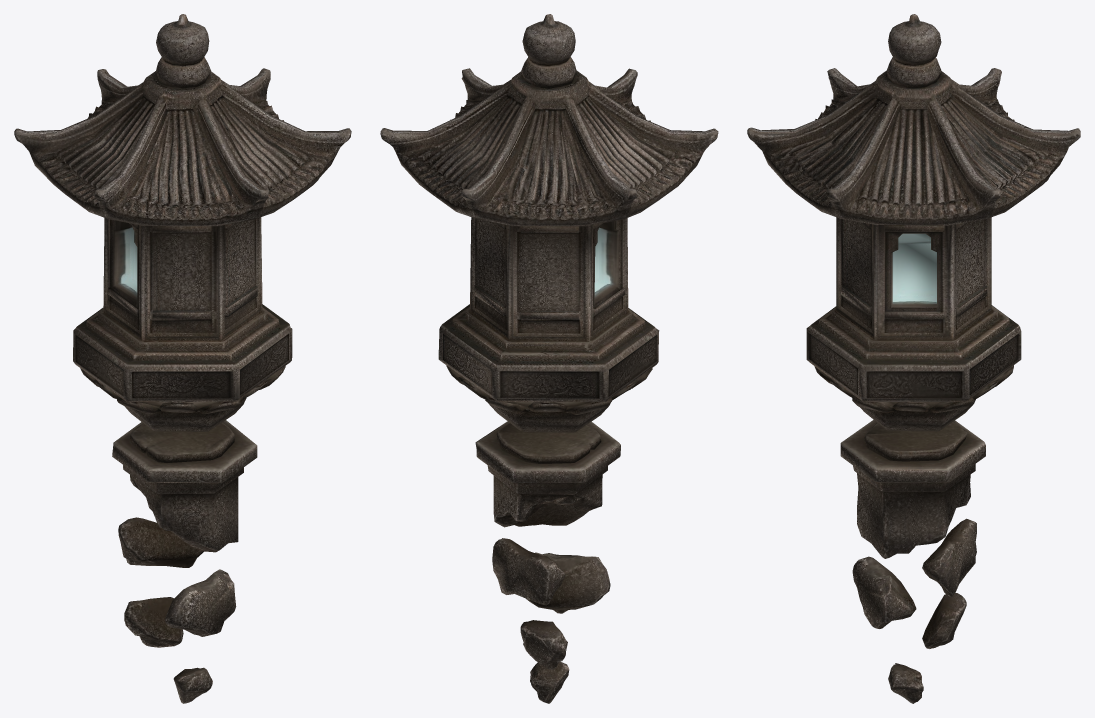
Rendered from tripo_convert_875fa4ba-a15d-4524-a82b-86f9a7edd002.fbx.
3 views of the same model, side by side, from view 1: azimuth 30°, elevation 25°; view 2: azimuth 150°, elevation 25°; view 3: azimuth 270°, elevation 25° (orthographic).
Visible parts, largest first — view 1: tripo_node_875fa4ba; view 2: tripo_node_875fa4ba; view 3: tripo_node_875fa4ba.
Part boxes in pixels (x1,y1,x2,y2): tripo_node_875fa4ba: (14, 14, 351, 703); tripo_node_875fa4ba: (380, 14, 718, 703); tripo_node_875fa4ba: (747, 14, 1080, 703).
Bounding box in the file's own units: 0.3887 × 0.998 × 0.4395.
Materials: 1 (1 with a texture image).
